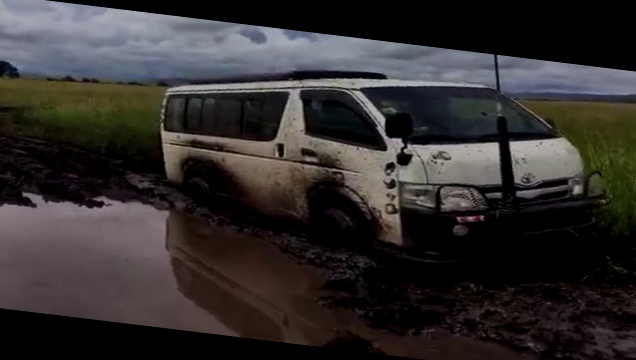van: (144, 42, 618, 278)
